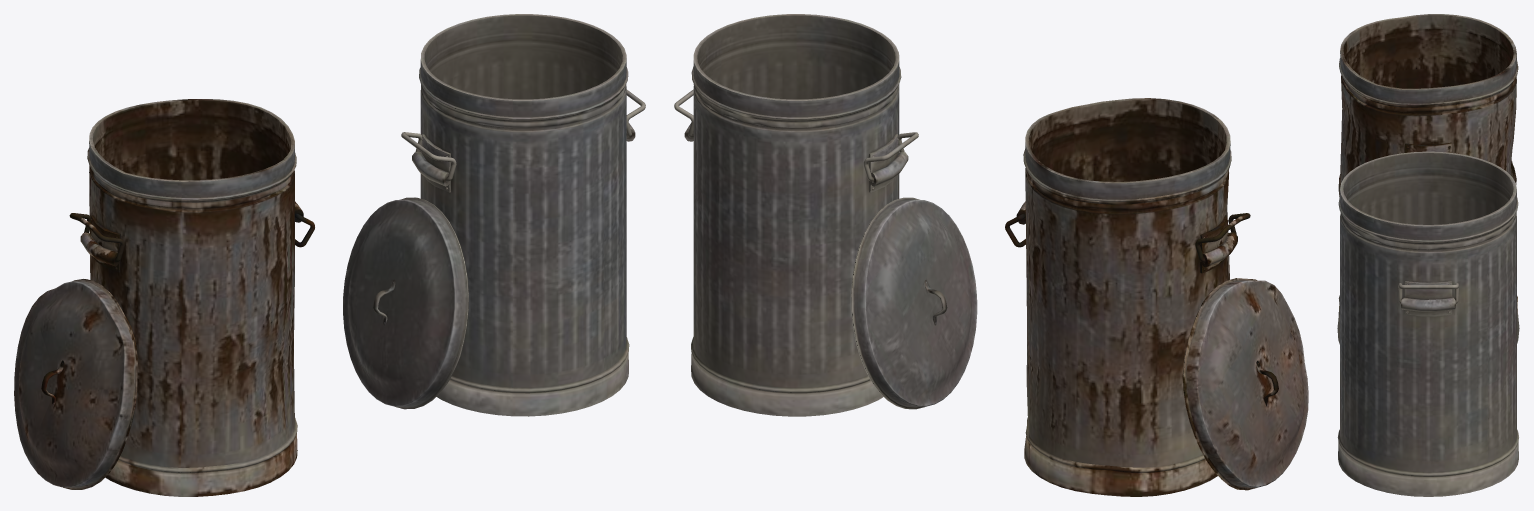
The model's file is metal_trash_can.glb.
The picture shows the model from 3 angles, left to right: view 1: azimuth 30°, elevation 25°; view 2: azimuth 150°, elevation 25°; view 3: azimuth 270°, elevation 25°; orthographic projection. The views are drawn at different scales.
Visible parts, largest first — view 1: metal_trash_can, metal_trash_can_rust, metal_trash_can_lid, metal_trash_can_rust_lid; view 2: metal_trash_can, metal_trash_can_rust, metal_trash_can_lid, metal_trash_can_rust_lid; view 3: metal_trash_can, metal_trash_can_rust, metal_trash_can_handle_right.
Part boxes in pixels (box(x1,y1,x2,y2)): metal_trash_can: box(412, 14, 635, 416); metal_trash_can_rust: box(80, 99, 303, 496); metal_trash_can_lid: box(343, 197, 468, 409); metal_trash_can_rust_lid: box(14, 279, 137, 489); metal_trash_can: box(684, 14, 908, 416); metal_trash_can_rust: box(1016, 98, 1237, 496); metal_trash_can_lid: box(851, 197, 977, 409); metal_trash_can_rust_lid: box(1183, 278, 1308, 490); metal_trash_can: box(1337, 151, 1518, 496); metal_trash_can_rust: box(1338, 14, 1518, 316); metal_trash_can_handle_right: box(1398, 283, 1458, 303).
Size of the model in its own units: 1.78 by 0.9062 by 0.5543.
3 materials, 3 textured.
